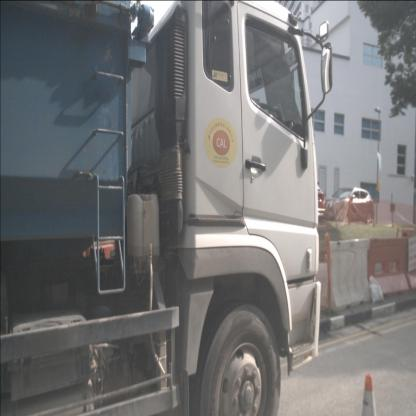movable_object-barrier: (329, 238, 372, 313), (370, 236, 410, 298), (402, 235, 416, 291)
movable_object-trafficcone: (349, 374, 387, 415)
vehicle-car: (321, 186, 375, 226)
vehicle-truck: (0, 0, 325, 415)
